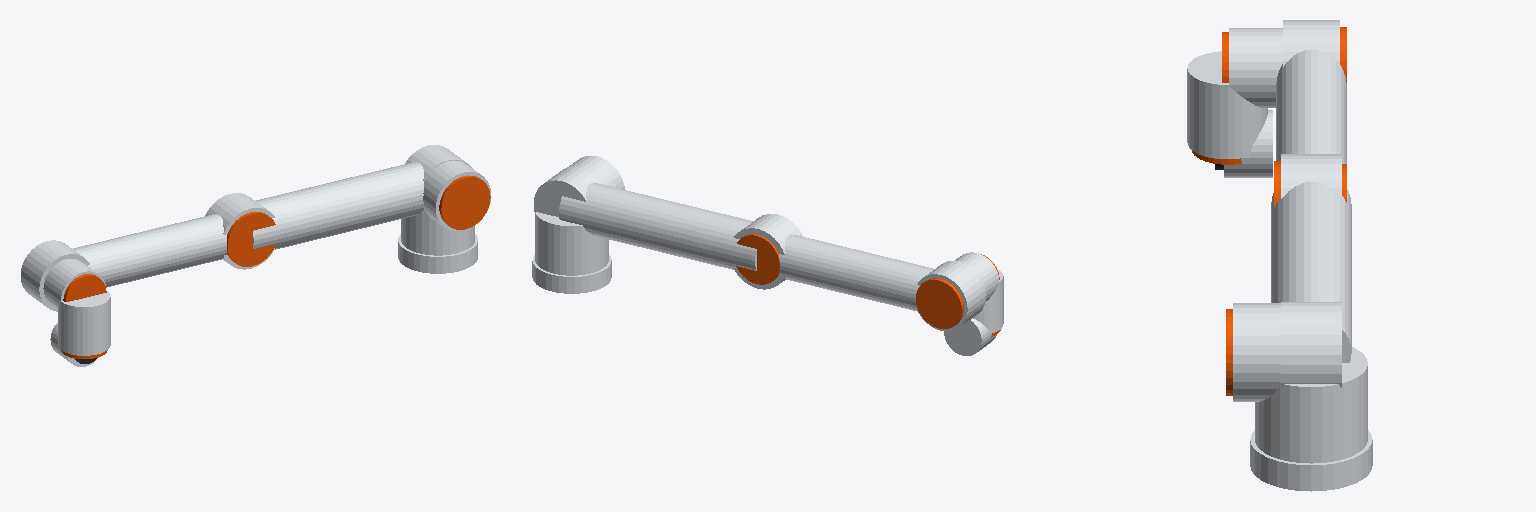
robot.urdf — FAIRINO FR5 - lightweight visual:
<?xml version='1.0' encoding='utf-8'?>
<robot name="FAIRINO FR5 - lightweight visual">
  <material name="white">
    <color rgba=".90 .92 .94 1" />
  </material>
  <material name="orange">
    <color rgba=".96 .40 .07 1" />
  </material>
  <material name="dark">
    <color rgba=".18 .22 .27 1" />
  </material>
  <link name="arm_base">
    <visual>
      <origin xyz="0 0 0.0175" rpy="0 0 0" />
      <geometry>
        <cylinder radius="0.0745" length="0.035" />
      </geometry>
      <material name="white" />
    </visual>
    <visual>
      <origin xyz="0 0 0.0775" rpy="0 0 0" />
      <geometry>
        <cylinder radius="0.069" length="0.09" />
      </geometry>
      <material name="white" />
    </visual>
  </link>
  <link name="shoulder">
    <visual>
      <origin xyz="0 0 0.07" rpy="0 0 0" />
      <geometry>
        <cylinder radius="0.069" length="0.135" />
      </geometry>
      <material name="white" />
    </visual>
    <visual>
      <origin xyz="0 -0.055 0.152" rpy="1.5707963267948966 0 0" />
      <geometry>
        <cylinder radius="0.06" length="0.08" />
      </geometry>
      <material name="white" />
    </visual>
    <visual>
      <origin xyz="0 -0.1 0.152" rpy="1.5707963267948966 0 0" />
      <geometry>
        <cylinder radius="0.053" length="0.008" />
      </geometry>
      <material name="orange" />
    </visual>
  </link>
  <link name="upper_arm">
    <visual>
      <origin xyz="-0.2125 0 0" rpy="0 1.5707963267948966 0" />
      <geometry>
        <cylinder radius="0.049" length="0.425" />
      </geometry>
      <material name="white" />
    </visual>
    <visual>
      <origin xyz="0 0 0" rpy="0 0 0" />
      <geometry>
        <cylinder radius="0.062" length="0.075" />
      </geometry>
      <material name="white" />
    </visual>
    <visual>
      <origin xyz="0 0 0.041" rpy="0 0 0" />
      <geometry>
        <cylinder radius="0.054" length="0.008" />
      </geometry>
      <material name="orange" />
    </visual>
    <visual>
      <origin xyz="-0.425 0 0" rpy="0 0 0" />
      <geometry>
        <cylinder radius="0.058" length="0.07" />
      </geometry>
      <material name="white" />
    </visual>
    <visual>
      <origin xyz="-0.425 0 -0.039" rpy="0 0 0" />
      <geometry>
        <cylinder radius="0.05" length="0.008" />
      </geometry>
      <material name="orange" />
    </visual>
  </link>
  <link name="forearm">
    <visual>
      <origin xyz="-0.197505 0 0" rpy="0 1.5707963267948966 0" />
      <geometry>
        <cylinder radius="0.043" length="0.39501" />
      </geometry>
      <material name="white" />
    </visual>
    <visual>
      <origin xyz="0 0 0" rpy="0 0 0" />
      <geometry>
        <cylinder radius="0.062" length="0.075" />
      </geometry>
      <material name="white" />
    </visual>
    <visual>
      <origin xyz="0 0 0.041" rpy="0 0 0" />
      <geometry>
        <cylinder radius="0.054" length="0.008" />
      </geometry>
      <material name="orange" />
    </visual>
    <visual>
      <origin xyz="-0.39501 0 0" rpy="0 0 0" />
      <geometry>
        <cylinder radius="0.058" length="0.07" />
      </geometry>
      <material name="white" />
    </visual>
    <visual>
      <origin xyz="-0.39501 0 -0.039" rpy="0 0 0" />
      <geometry>
        <cylinder radius="0.05" length="0.008" />
      </geometry>
      <material name="orange" />
    </visual>
  </link>
  <link name="wrist_1">
    <visual>
      <origin xyz="0 0 0.05" rpy="0 0 0" />
      <geometry>
        <cylinder radius="0.049" length="0.1" />
      </geometry>
      <material name="white" />
    </visual>
    <visual>
      <origin xyz="0 0 0.105" rpy="0 0 0" />
      <geometry>
        <cylinder radius="0.044" length="0.009" />
      </geometry>
      <material name="orange" />
    </visual>
  </link>
  <link name="wrist_2">
    <visual>
      <origin xyz="0 0 0.05" rpy="0 0 0" />
      <geometry>
        <cylinder radius="0.049" length="0.1" />
      </geometry>
      <material name="white" />
    </visual>
    <visual>
      <origin xyz="0 0 0.105" rpy="0 0 0" />
      <geometry>
        <cylinder radius="0.044" length="0.009" />
      </geometry>
      <material name="orange" />
    </visual>
  </link>
  <link name="tool">
    <visual>
      <origin xyz="0 0 -0.025" rpy="0 0 0" />
      <geometry>
        <cylinder radius="0.041" length="0.06" />
      </geometry>
      <material name="white" />
    </visual>
    <visual>
      <origin xyz="0 0 0.01" rpy="0 0 0" />
      <geometry>
        <cylinder radius="0.0315" length="0.01" />
      </geometry>
      <material name="dark" />
    </visual>
  </link>
  <joint name="joint_1" type="revolute">
    <parent link="arm_base" />
    <child link="shoulder" />
    <origin xyz="0 0 0" rpy="0 0 0" />
    <axis xyz="0 0 1" />
    <limit lower="-3.0543261909900767" upper="3.0543261909900767" effort="100" velocity="3.141592653589793" />
  </joint>
  <joint name="joint_2" type="revolute">
    <parent link="shoulder" />
    <child link="upper_arm" />
    <origin xyz="0 0 0.152" rpy="1.5707963267948966 0 0" />
    <axis xyz="0 0 1" />
    <limit lower="-4.625122517784973" upper="1.4835298641951802" effort="100" velocity="3.141592653589793" />
  </joint>
  <joint name="joint_3" type="revolute">
    <parent link="upper_arm" />
    <child link="forearm" />
    <origin xyz="-0.425 0 0" rpy="0 0 0" />
    <axis xyz="0 0 1" />
    <limit lower="-2.792526803190927" upper="2.792526803190927" effort="100" velocity="3.141592653589793" />
  </joint>
  <joint name="joint_4" type="revolute">
    <parent link="forearm" />
    <child link="wrist_1" />
    <origin xyz="-0.39501 0 0" rpy="0 0 0" />
    <axis xyz="0 0 1" />
    <limit lower="-4.625122517784973" upper="1.4835298641951802" effort="100" velocity="3.141592653589793" />
  </joint>
  <joint name="joint_5" type="revolute">
    <parent link="wrist_1" />
    <child link="wrist_2" />
    <origin xyz="0 0 0.1021" rpy="1.5707963267948966 0 0" />
    <axis xyz="0 0 1" />
    <limit lower="-3.0543261909900767" upper="3.0543261909900767" effort="100" velocity="3.141592653589793" />
  </joint>
  <joint name="joint_6" type="revolute">
    <parent link="wrist_2" />
    <child link="tool" />
    <origin xyz="0 0 0.102" rpy="-1.5707963267948966 0 0" />
    <axis xyz="0 0 1" />
    <limit lower="-3.0543261909900767" upper="3.0543261909900767" effort="100" velocity="3.141592653589793" />
  </joint>
</robot>

--- Facts derived from the render (not from the file) ---
The picture shows the robot from 3 angles, left to right: view 1: azimuth 30°, elevation 25°; view 2: azimuth 150°, elevation 25°; view 3: azimuth 270°, elevation 25°; orthographic projection.
Model FAIRINO FR5 - lightweight visual with 7 links and 6 joints (6 revolute), rooted at arm_base, posed every joint at zero.
Links seen in each view (by area): view 1: forearm, upper_arm, shoulder, wrist_2, arm_base, wrist_1; view 2: upper_arm, forearm, arm_base, shoulder, tool, wrist_2, wrist_1; view 3: upper_arm, forearm, arm_base, shoulder, wrist_2, wrist_1, tool.
Boxes of the visible links, bbox=[...] form: forearm: bbox=[21, 193, 275, 311]; upper_arm: bbox=[253, 145, 471, 249]; shoulder: bbox=[401, 160, 490, 255]; wrist_2: bbox=[58, 290, 110, 358]; arm_base: bbox=[398, 212, 477, 273]; wrist_1: bbox=[43, 259, 106, 308]; upper_arm: bbox=[534, 166, 779, 284]; forearm: bbox=[734, 214, 985, 331]; arm_base: bbox=[532, 220, 611, 293]; shoulder: bbox=[535, 156, 624, 275]; tool: bbox=[944, 318, 996, 355]; wrist_2: bbox=[973, 269, 1003, 336]; wrist_1: bbox=[955, 252, 999, 300]; upper_arm: bbox=[1271, 164, 1351, 387]; forearm: bbox=[1274, 20, 1346, 207]; arm_base: bbox=[1250, 377, 1372, 491]; shoulder: bbox=[1226, 303, 1367, 463]; wrist_2: bbox=[1187, 51, 1267, 164]; wrist_1: bbox=[1222, 28, 1282, 107]; tool: bbox=[1215, 110, 1272, 177].
Size in the robot's own frame: 0.9525 by 0.2256 by 0.214 metres.
Geometry: primitives only (box / cylinder / sphere), no mesh files.
